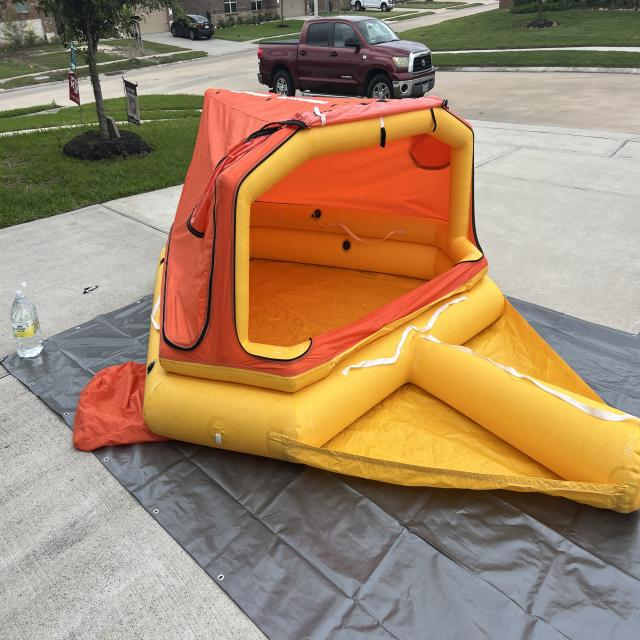Multi-person_life_raft: (74, 87, 639, 516)
